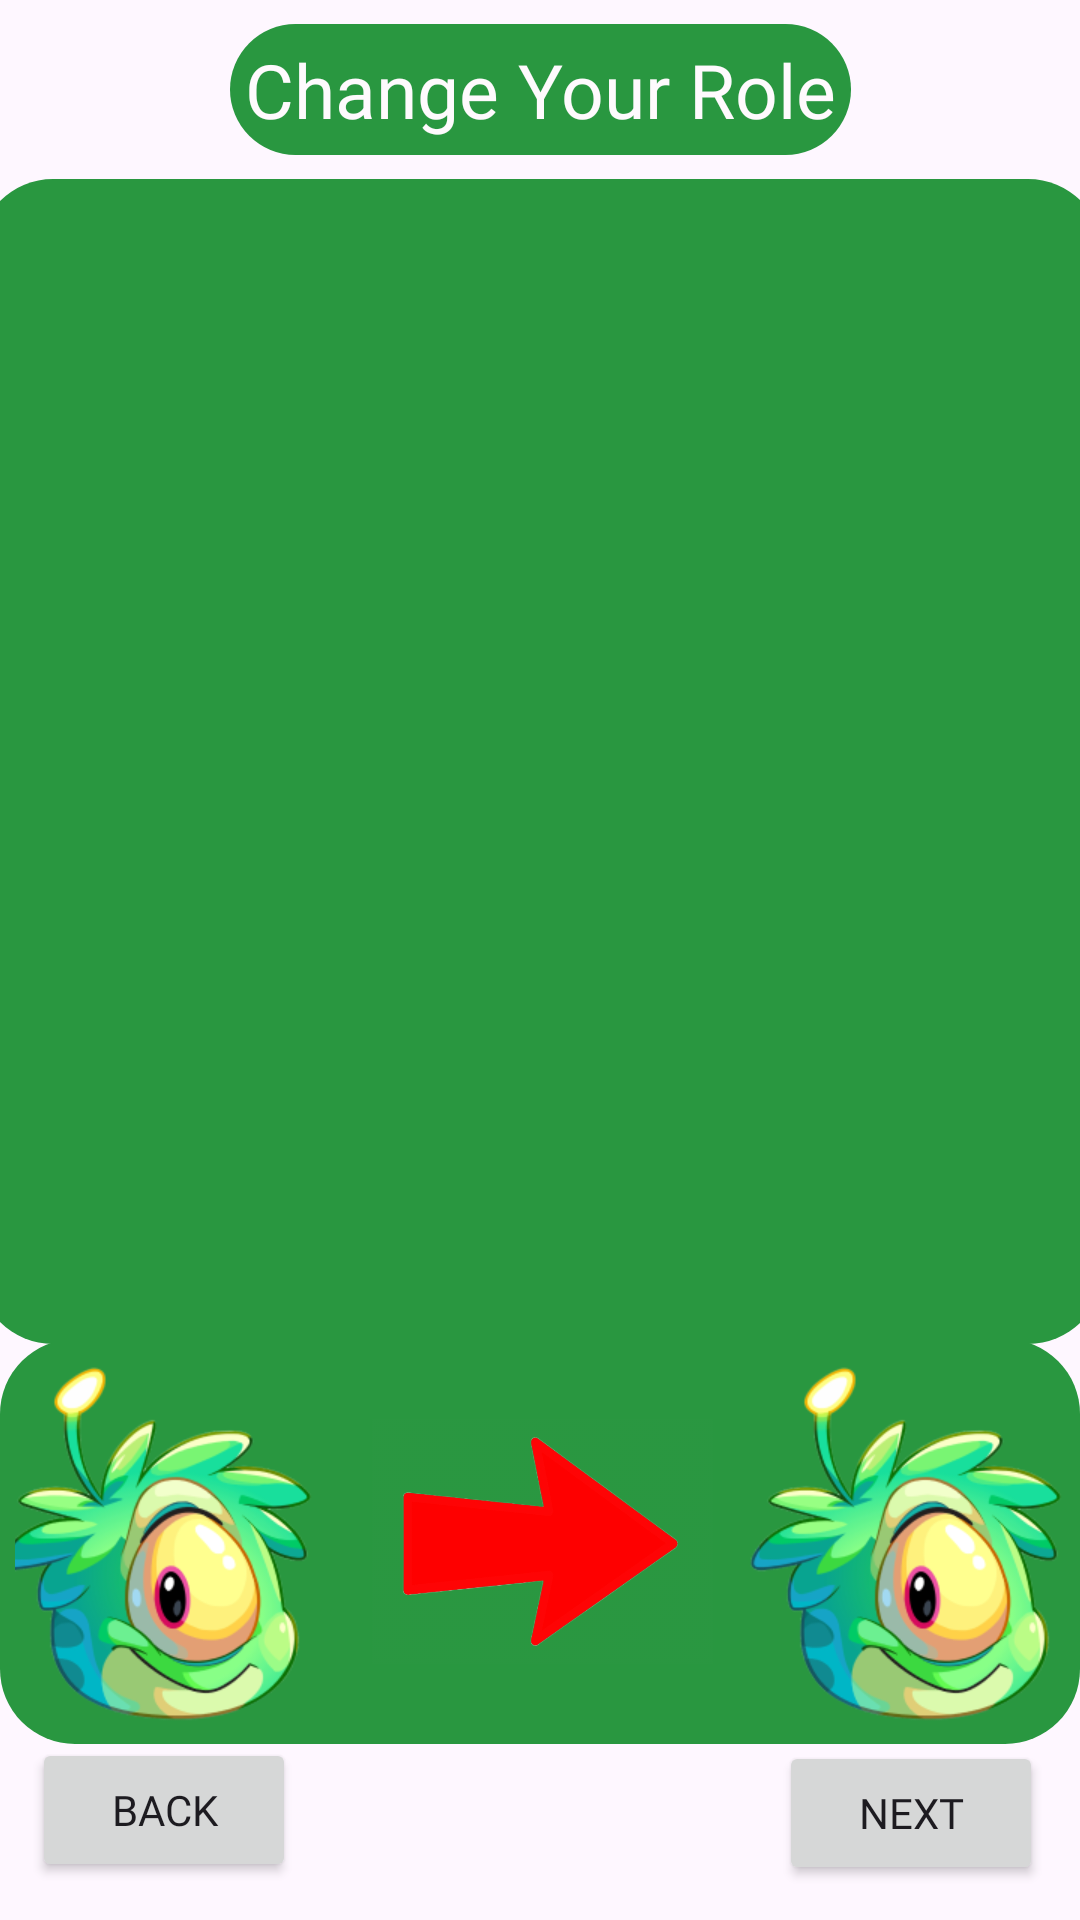

Icons on this 1080*1920 Android screen, each with its box as (x1, y1, x2, y2):
arrow: (403, 1437, 678, 1646)
